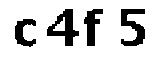4: (46, 6, 81, 49)
5: (118, 4, 149, 51)
c: (12, 16, 38, 48)
f: (83, 7, 104, 49)
